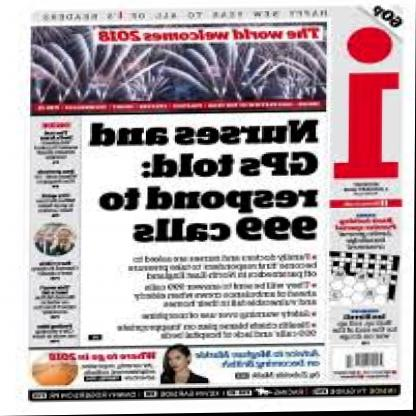Paper: (13, 5, 408, 410)
